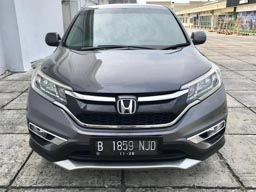plat: (94, 138, 159, 150)
